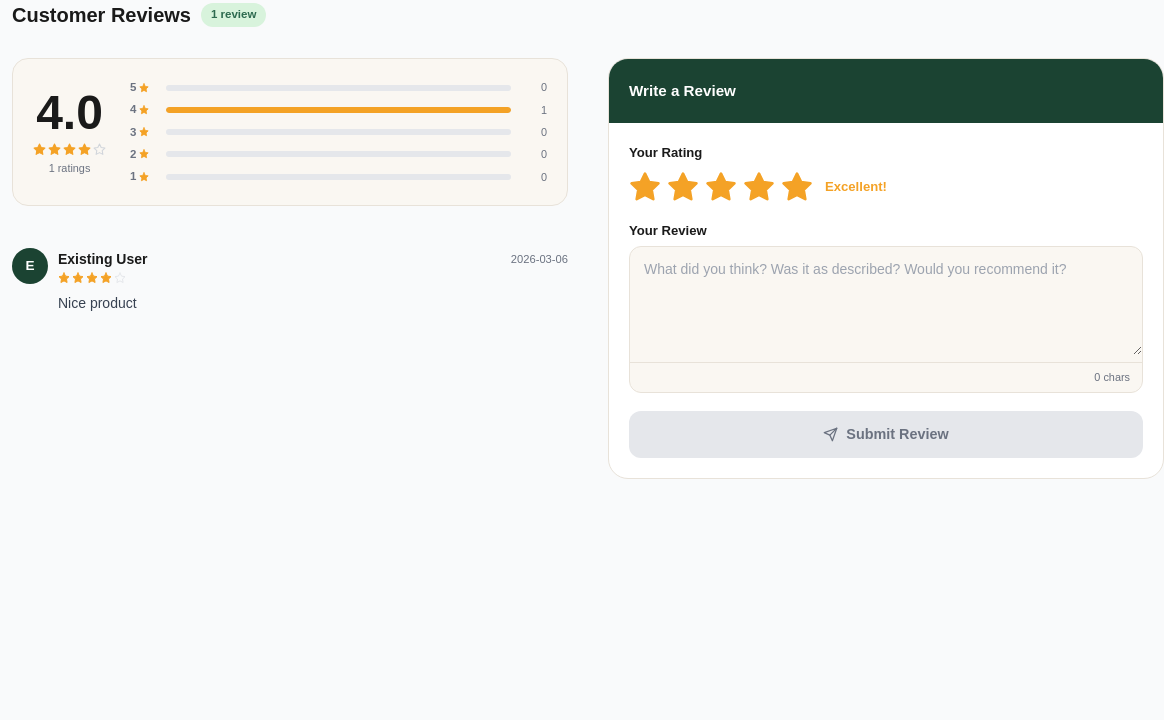
Test: Reviews › submits review when user is eligible
The width and height of the screenshot is (1164, 720).
Expected: the button "Submit Review" is disabled, [629,411,1143,458]
Replace the text in the text box with placeholder "What did you think? Was it as described? Would you recommend it?" with "Great quality and as described.": point(886, 301) [630,247,1142,355]
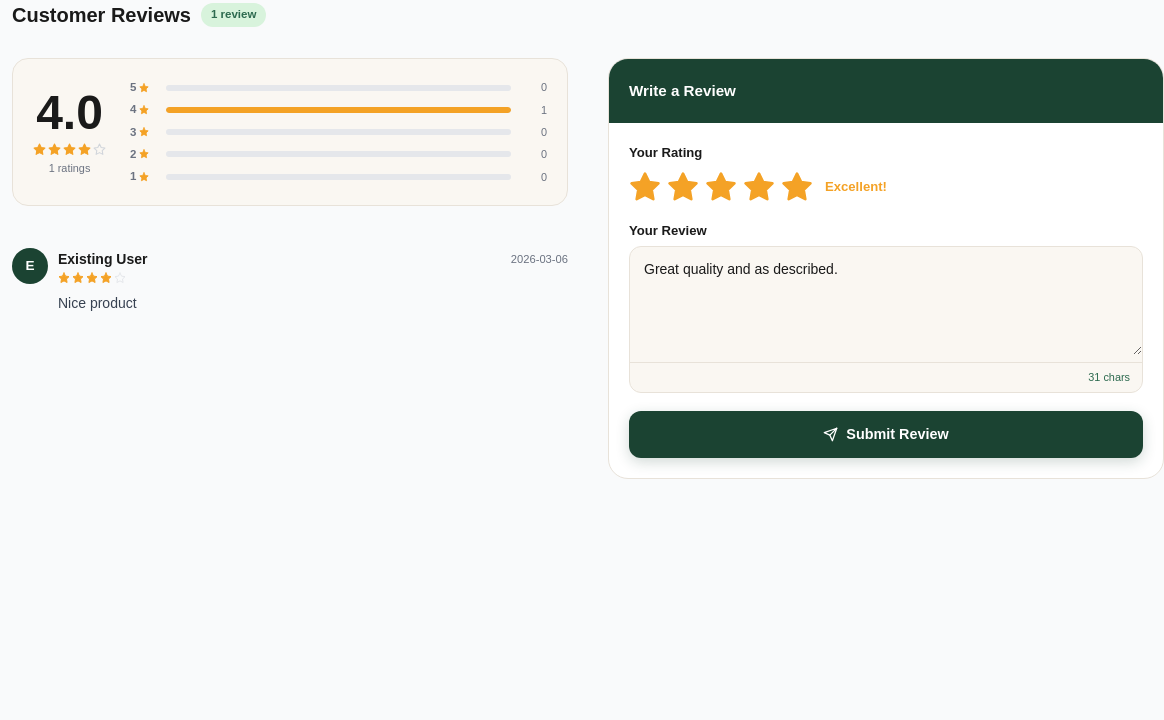
Click the button "Submit Review": point(886, 434) [629,411,1143,458]
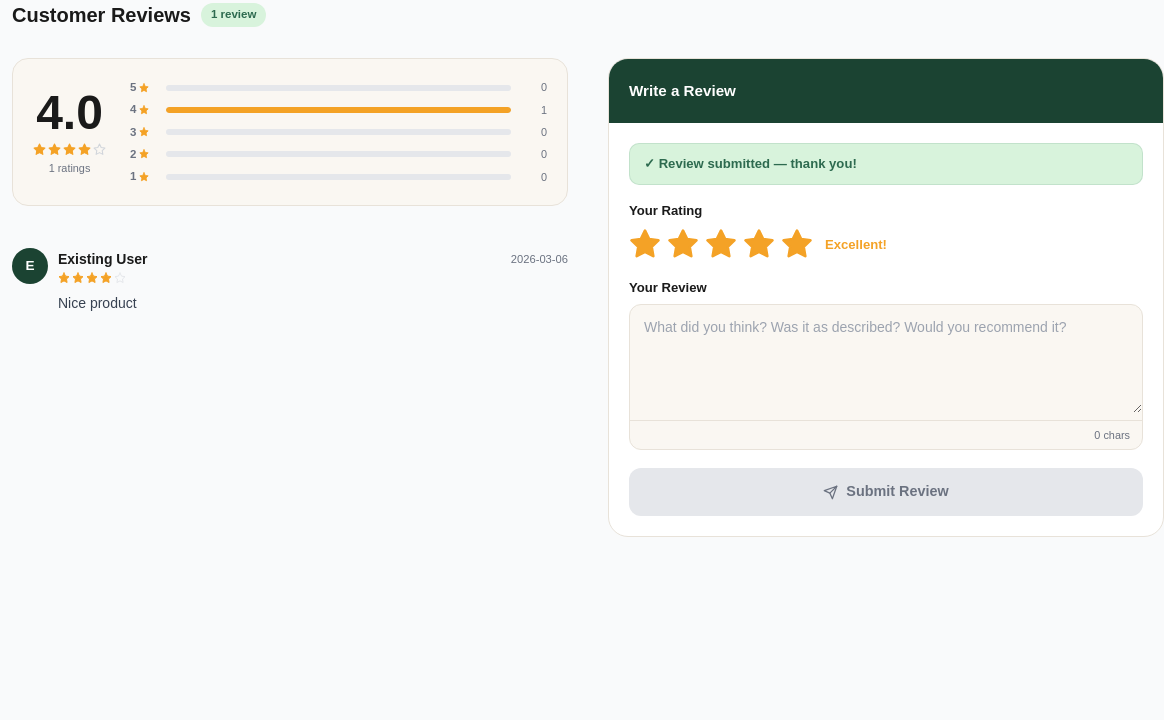
Result: the text "✓ Review submitted — thank you!" is shown at [629,143,1143,185]
